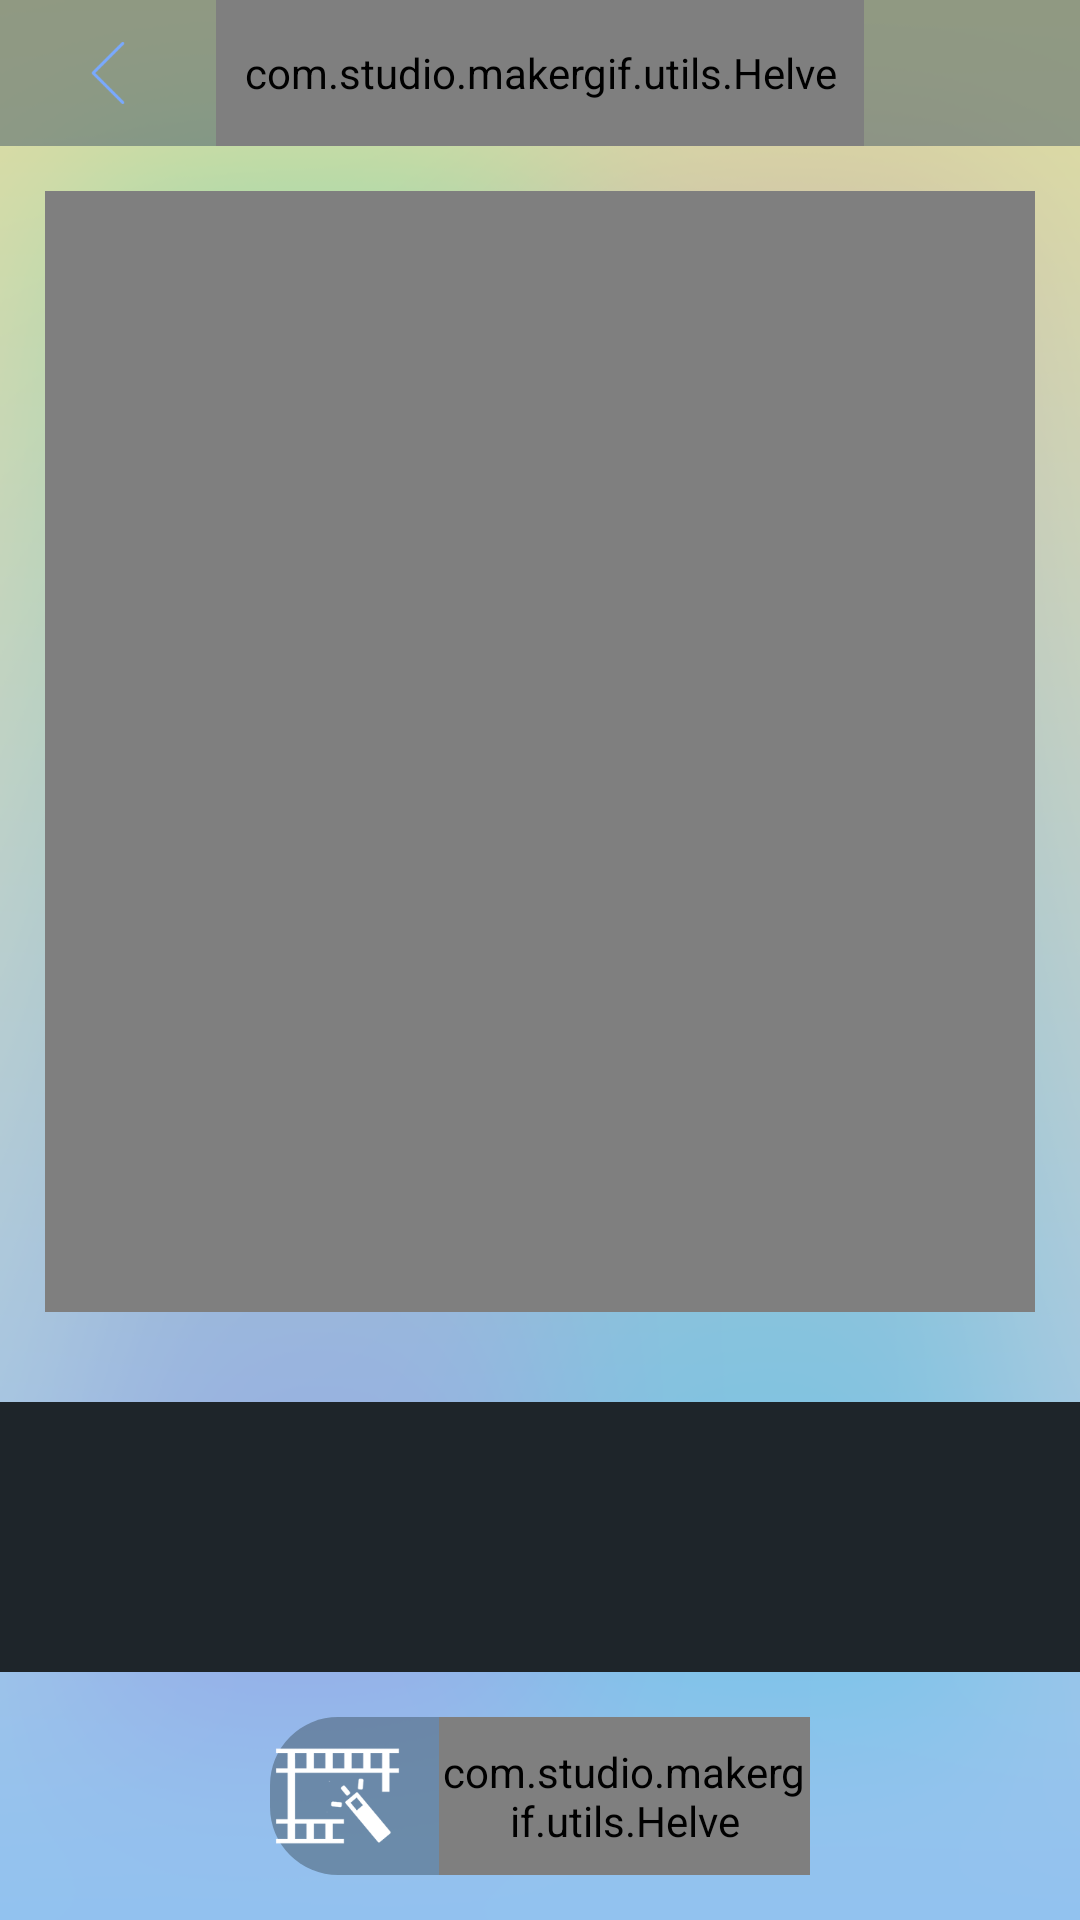

Icon click points for this 1080 × 1920 phone screenshot, format point (x, y):
effect: point (343, 1796)
